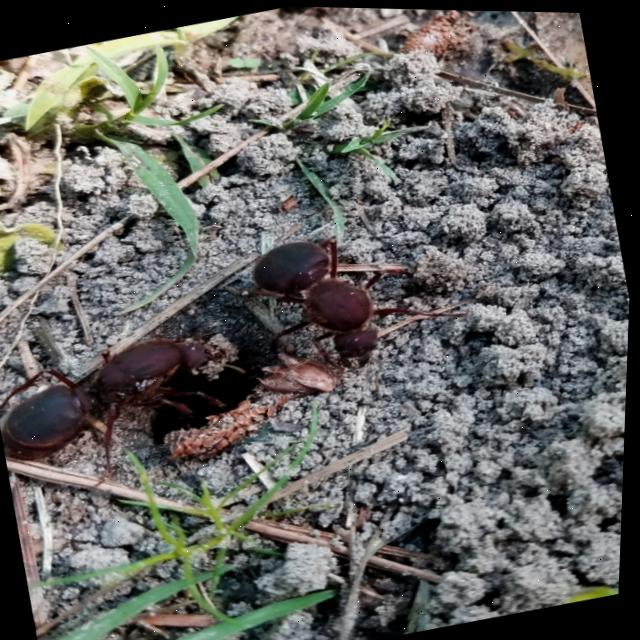Alive-Female-Dealate: (0, 321, 250, 507), (230, 206, 481, 391)
